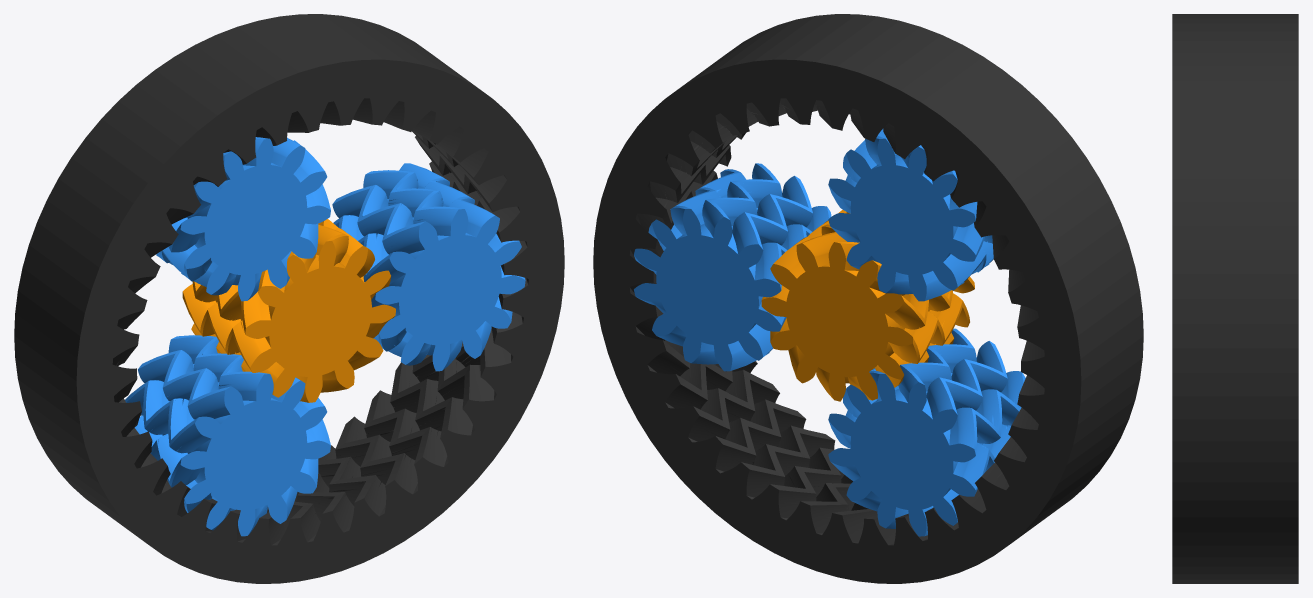
Rendered from assembly.glb.
The picture shows the model from 3 angles, left to right: view 1: azimuth 30°, elevation 25°; view 2: azimuth 150°, elevation 25°; view 3: azimuth 270°, elevation 25°; orthographic projection.
Visible parts, largest first — view 1: herringbone-planetary-m3-z12/ring, herringbone-planetary-m3-z12/planet-2, herringbone-planetary-m3-z12/planet-1, herringbone-planetary-m3-z12/sun, herringbone-planetary-m3-z12/planet-3; view 2: herringbone-planetary-m3-z12/ring, herringbone-planetary-m3-z12/planet-2, herringbone-planetary-m3-z12/planet-1, herringbone-planetary-m3-z12/sun, herringbone-planetary-m3-z12/planet-3; view 3: herringbone-planetary-m3-z12/ring.
Part boxes in pixels (x1=…): herringbone-planetary-m3-z12/ring: x1=14, y1=14, x2=564, y2=583; herringbone-planetary-m3-z12/planet-2: x1=125, y1=335, x2=330, y2=536; herringbone-planetary-m3-z12/planet-1: x1=332, y1=163, x2=525, y2=371; herringbone-planetary-m3-z12/sun: x1=182, y1=219, x2=395, y2=402; herringbone-planetary-m3-z12/planet-3: x1=156, y1=137, x2=330, y2=301; herringbone-planetary-m3-z12/ring: x1=593, y1=14, x2=1143, y2=583; herringbone-planetary-m3-z12/planet-2: x1=828, y1=328, x2=1025, y2=536; herringbone-planetary-m3-z12/planet-1: x1=634, y1=163, x2=831, y2=371; herringbone-planetary-m3-z12/sun: x1=761, y1=210, x2=974, y2=401; herringbone-planetary-m3-z12/planet-3: x1=828, y1=128, x2=993, y2=301; herringbone-planetary-m3-z12/ring: x1=1172, y1=14, x2=1298, y2=583.
Size of the model in its own units: 0.1355 by 0.1355 by 0.03.
